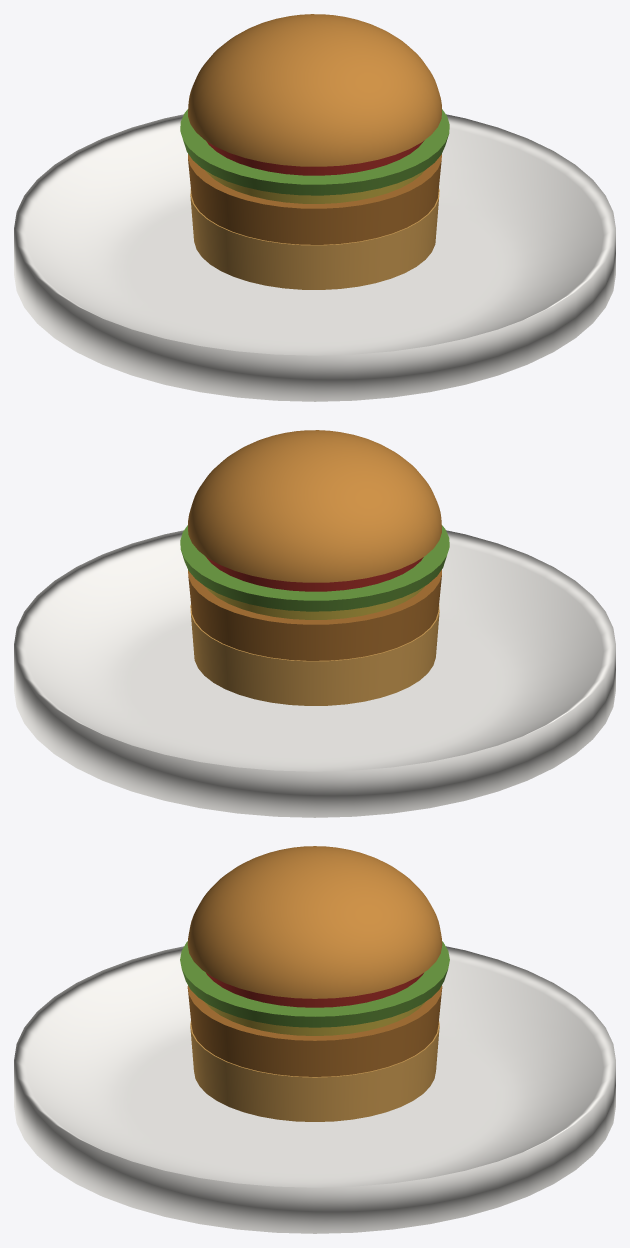
Rendered from burger-3-card.glb.
3 views of the same model, one above another, from view 1: azimuth 30°, elevation 25°; view 2: azimuth 150°, elevation 25°; view 3: azimuth 270°, elevation 25° (orthographic).
Size of the model in its own units: 0.26 by 0.1166 by 0.26.
